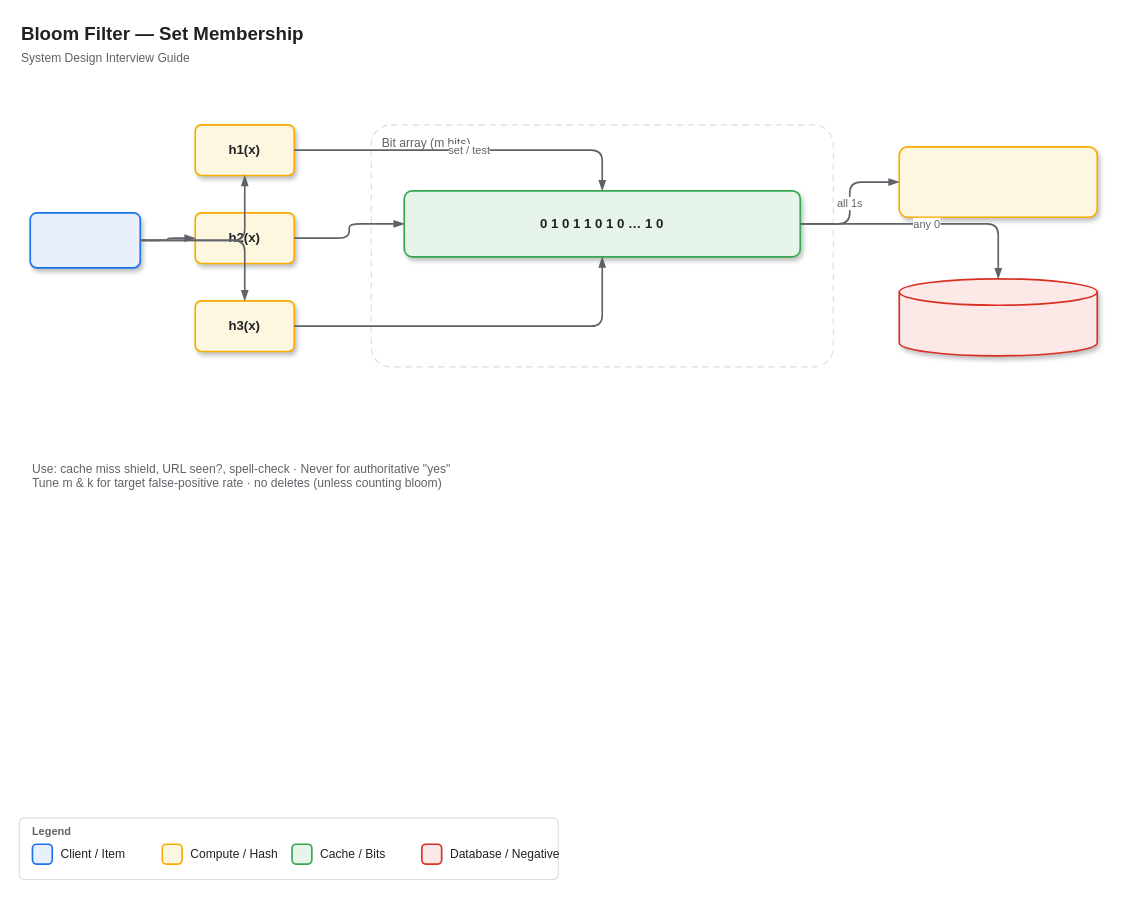
This 1124x899 diagram has some shape labels left out. The shapes that lost their labels are listed below. From the top down, each one's centre as x and y in pixels, then its label:
[999,183]: Maybe in set (false positive OK)
[86,241]: item x
[999,318]: Definitely NOT in set
